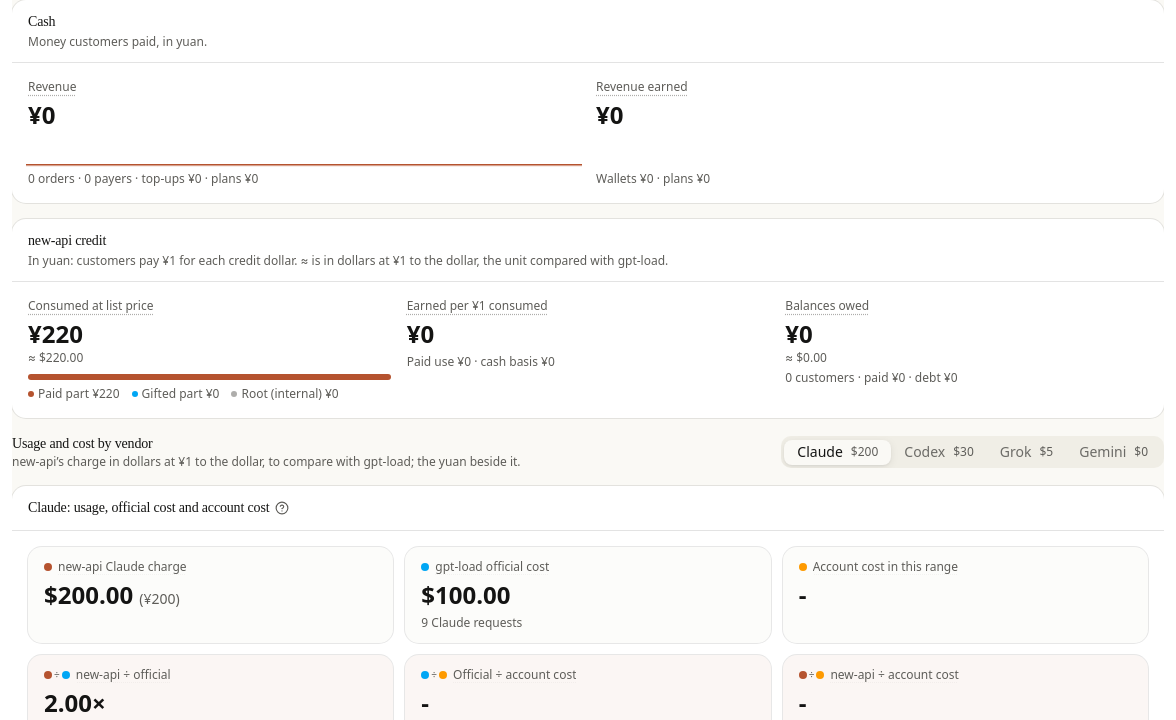
Test: usage by vendor on the funds view › shows only new-api’s charge for a vendor without account cost
The image size is (1176, 720).
Step 1. Click the tab "Codex $30" → (939, 452), box [891,440,987,464]
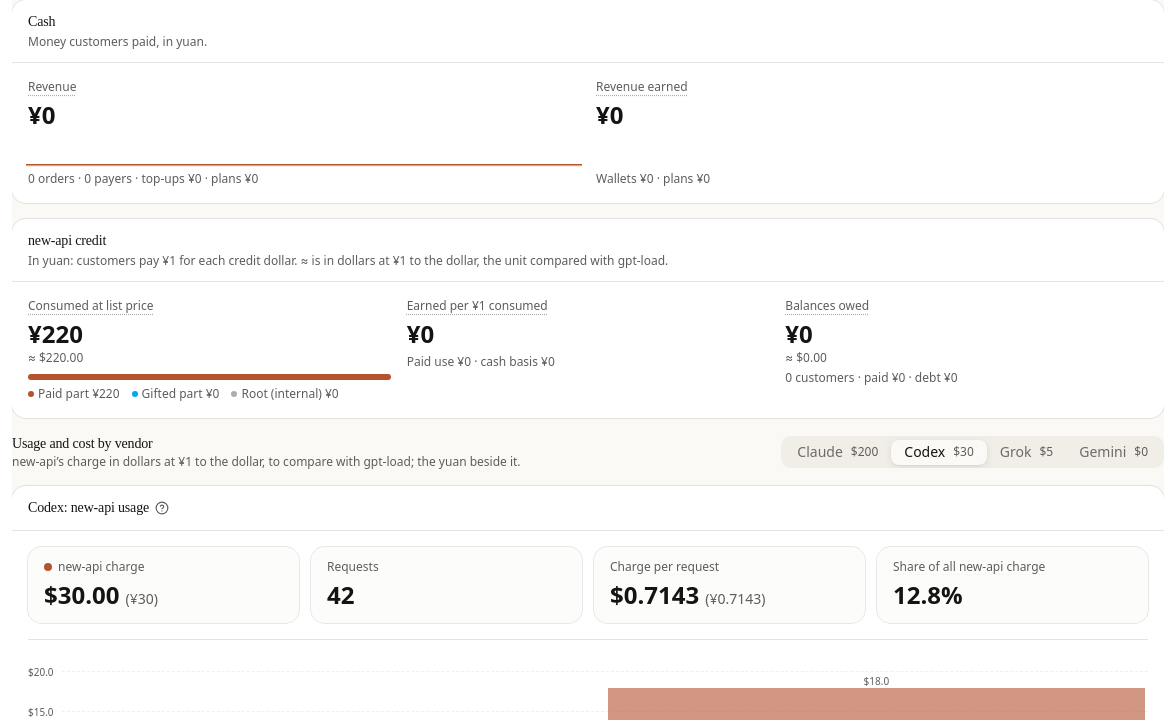
Expected: the heading "Codex: new-api usage" is shown, [28,498,169,518]
Expected: the text "Requests" reads "Requests 42", [311,547,582,623]
Expected: the text "Charge per request" reads "Charge per request $0.7143 (¥0.7143)", [594,547,865,623]
